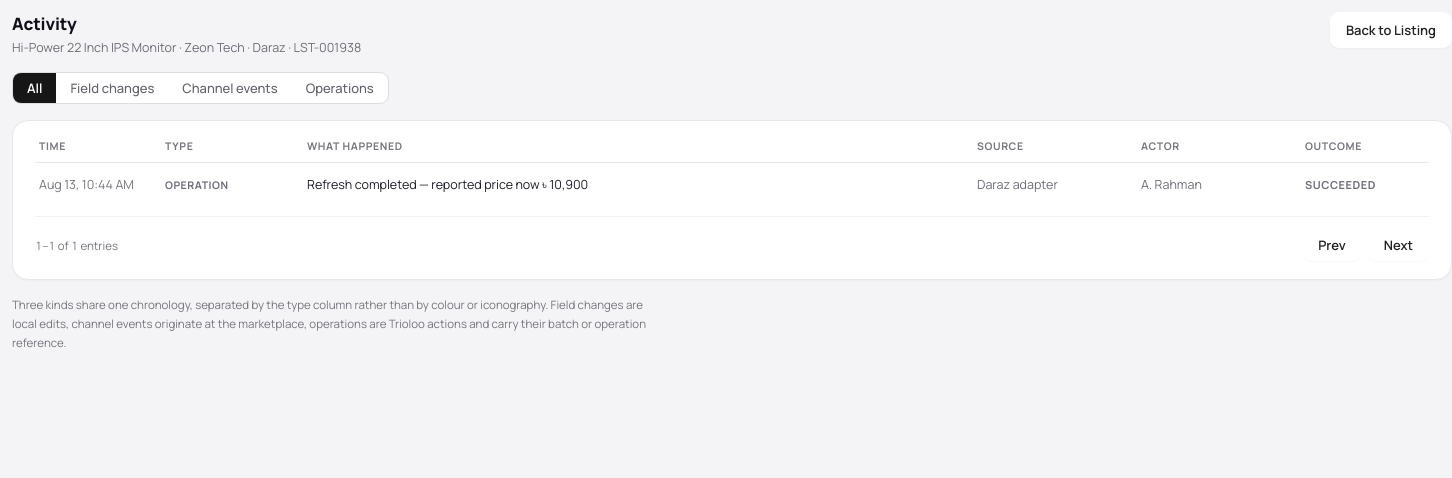
Test: empty history › says something different when a filter is what emptied the list
Expected: the element with test id "activity-row-a-1" is shown, 39,176 -> 1376,193
Click the tab "Field changes": (112,88) 56,73 -> 168,103
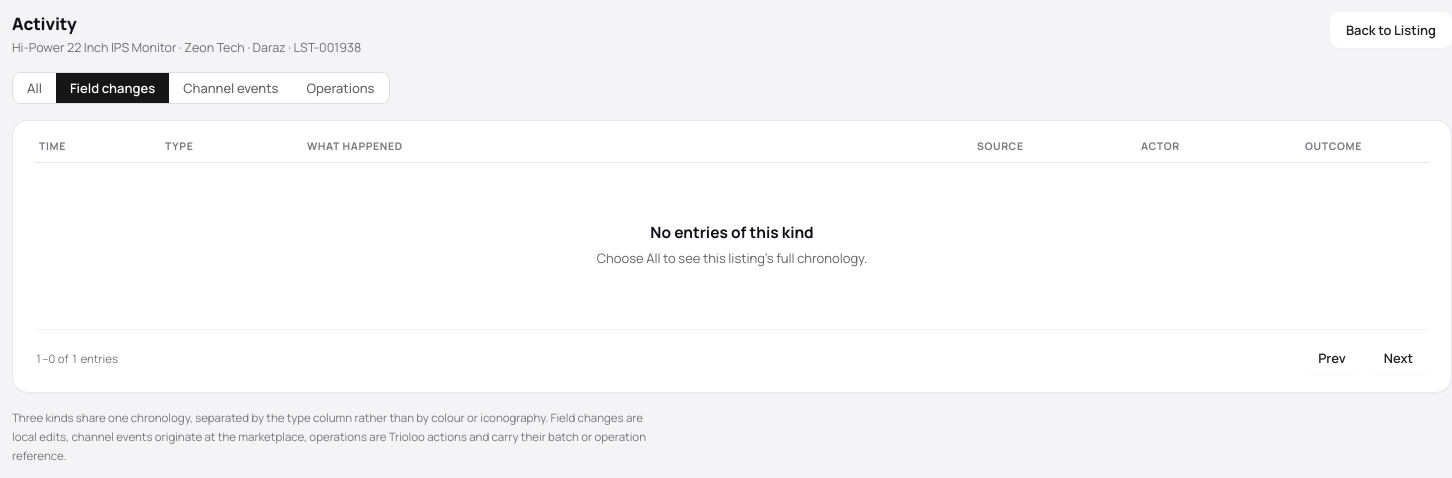
Expected: the text "No entries of this kind" is shown, 650,221 -> 814,243
